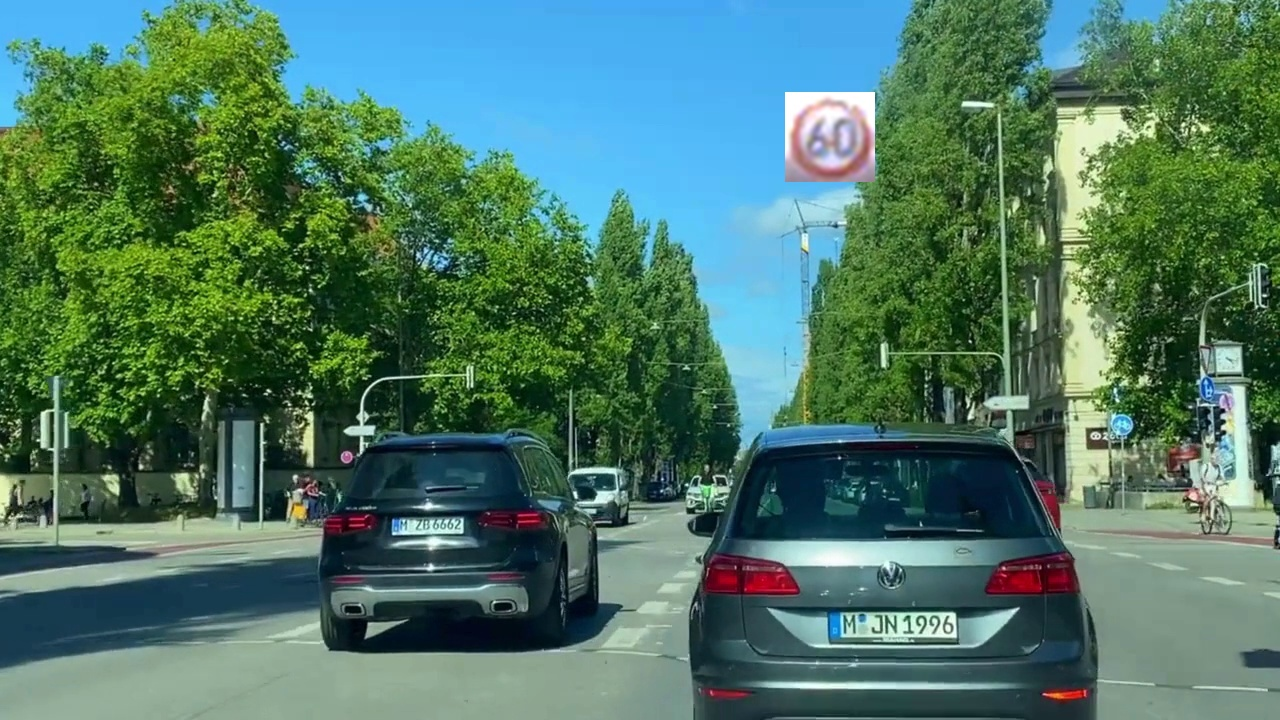Speed 60: (785, 92, 875, 182)
